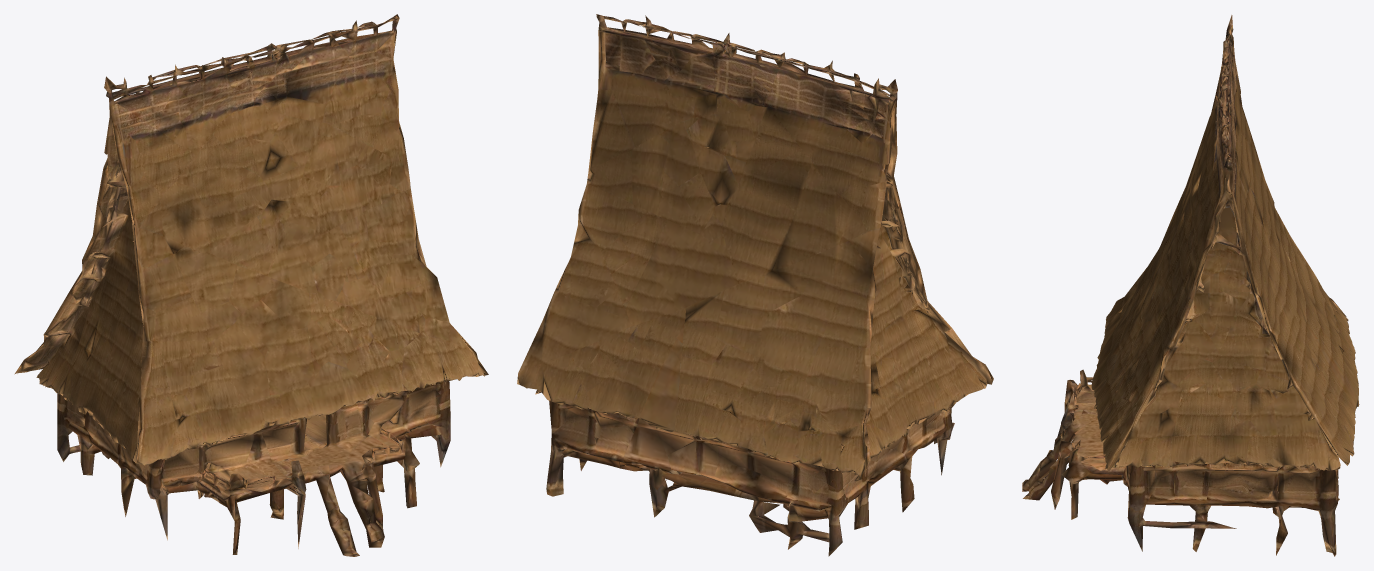
Rendered from nha-rong.glb.
The picture shows the model from 3 angles, left to right: view 1: azimuth 30°, elevation 25°; view 2: azimuth 150°, elevation 25°; view 3: azimuth 270°, elevation 25°; orthographic projection. The views are drawn at different scales.
Bounding box in the file's own units: 0.8388 × 0.9927 × 0.7382.
Materials: 1 (1 with a texture image).
